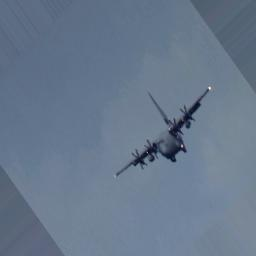Airplane: (110, 85, 212, 180)
